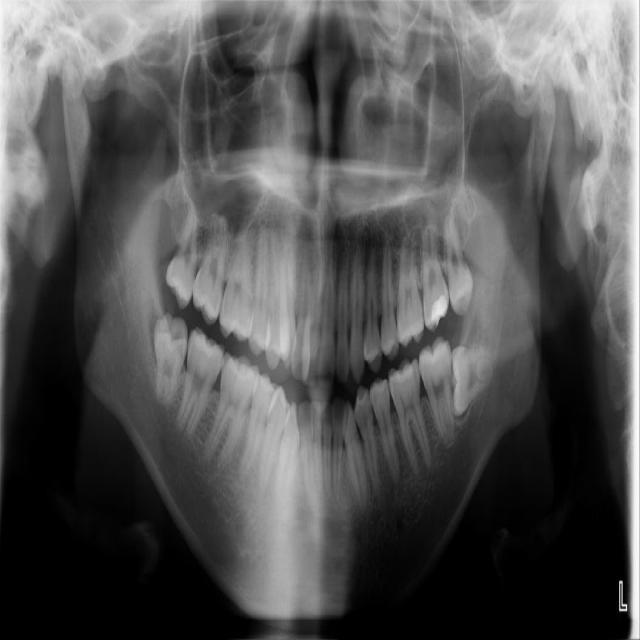3M ESPE Implant: (163, 206, 201, 310)
52: (422, 278, 450, 333)
73: (613, 579, 625, 593)
BioHorizons Implant: (421, 225, 450, 332)
BioLife Implant: (442, 214, 475, 316)
Biomet 3i Implant: (450, 345, 493, 418)
Blue Sky Bio Implant: (417, 335, 456, 449)
Caries: (186, 214, 239, 328)
Implant: (175, 326, 229, 439)
Keystone Dental Implant: (154, 313, 188, 405)
